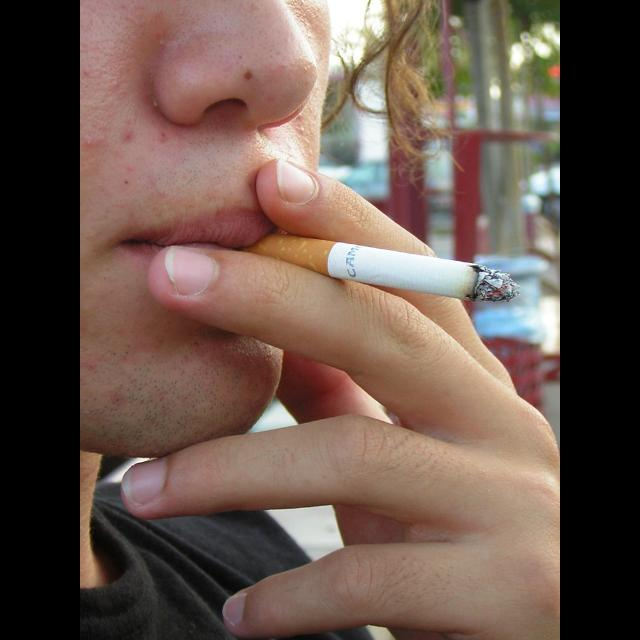rokok: (256, 218, 516, 318)
